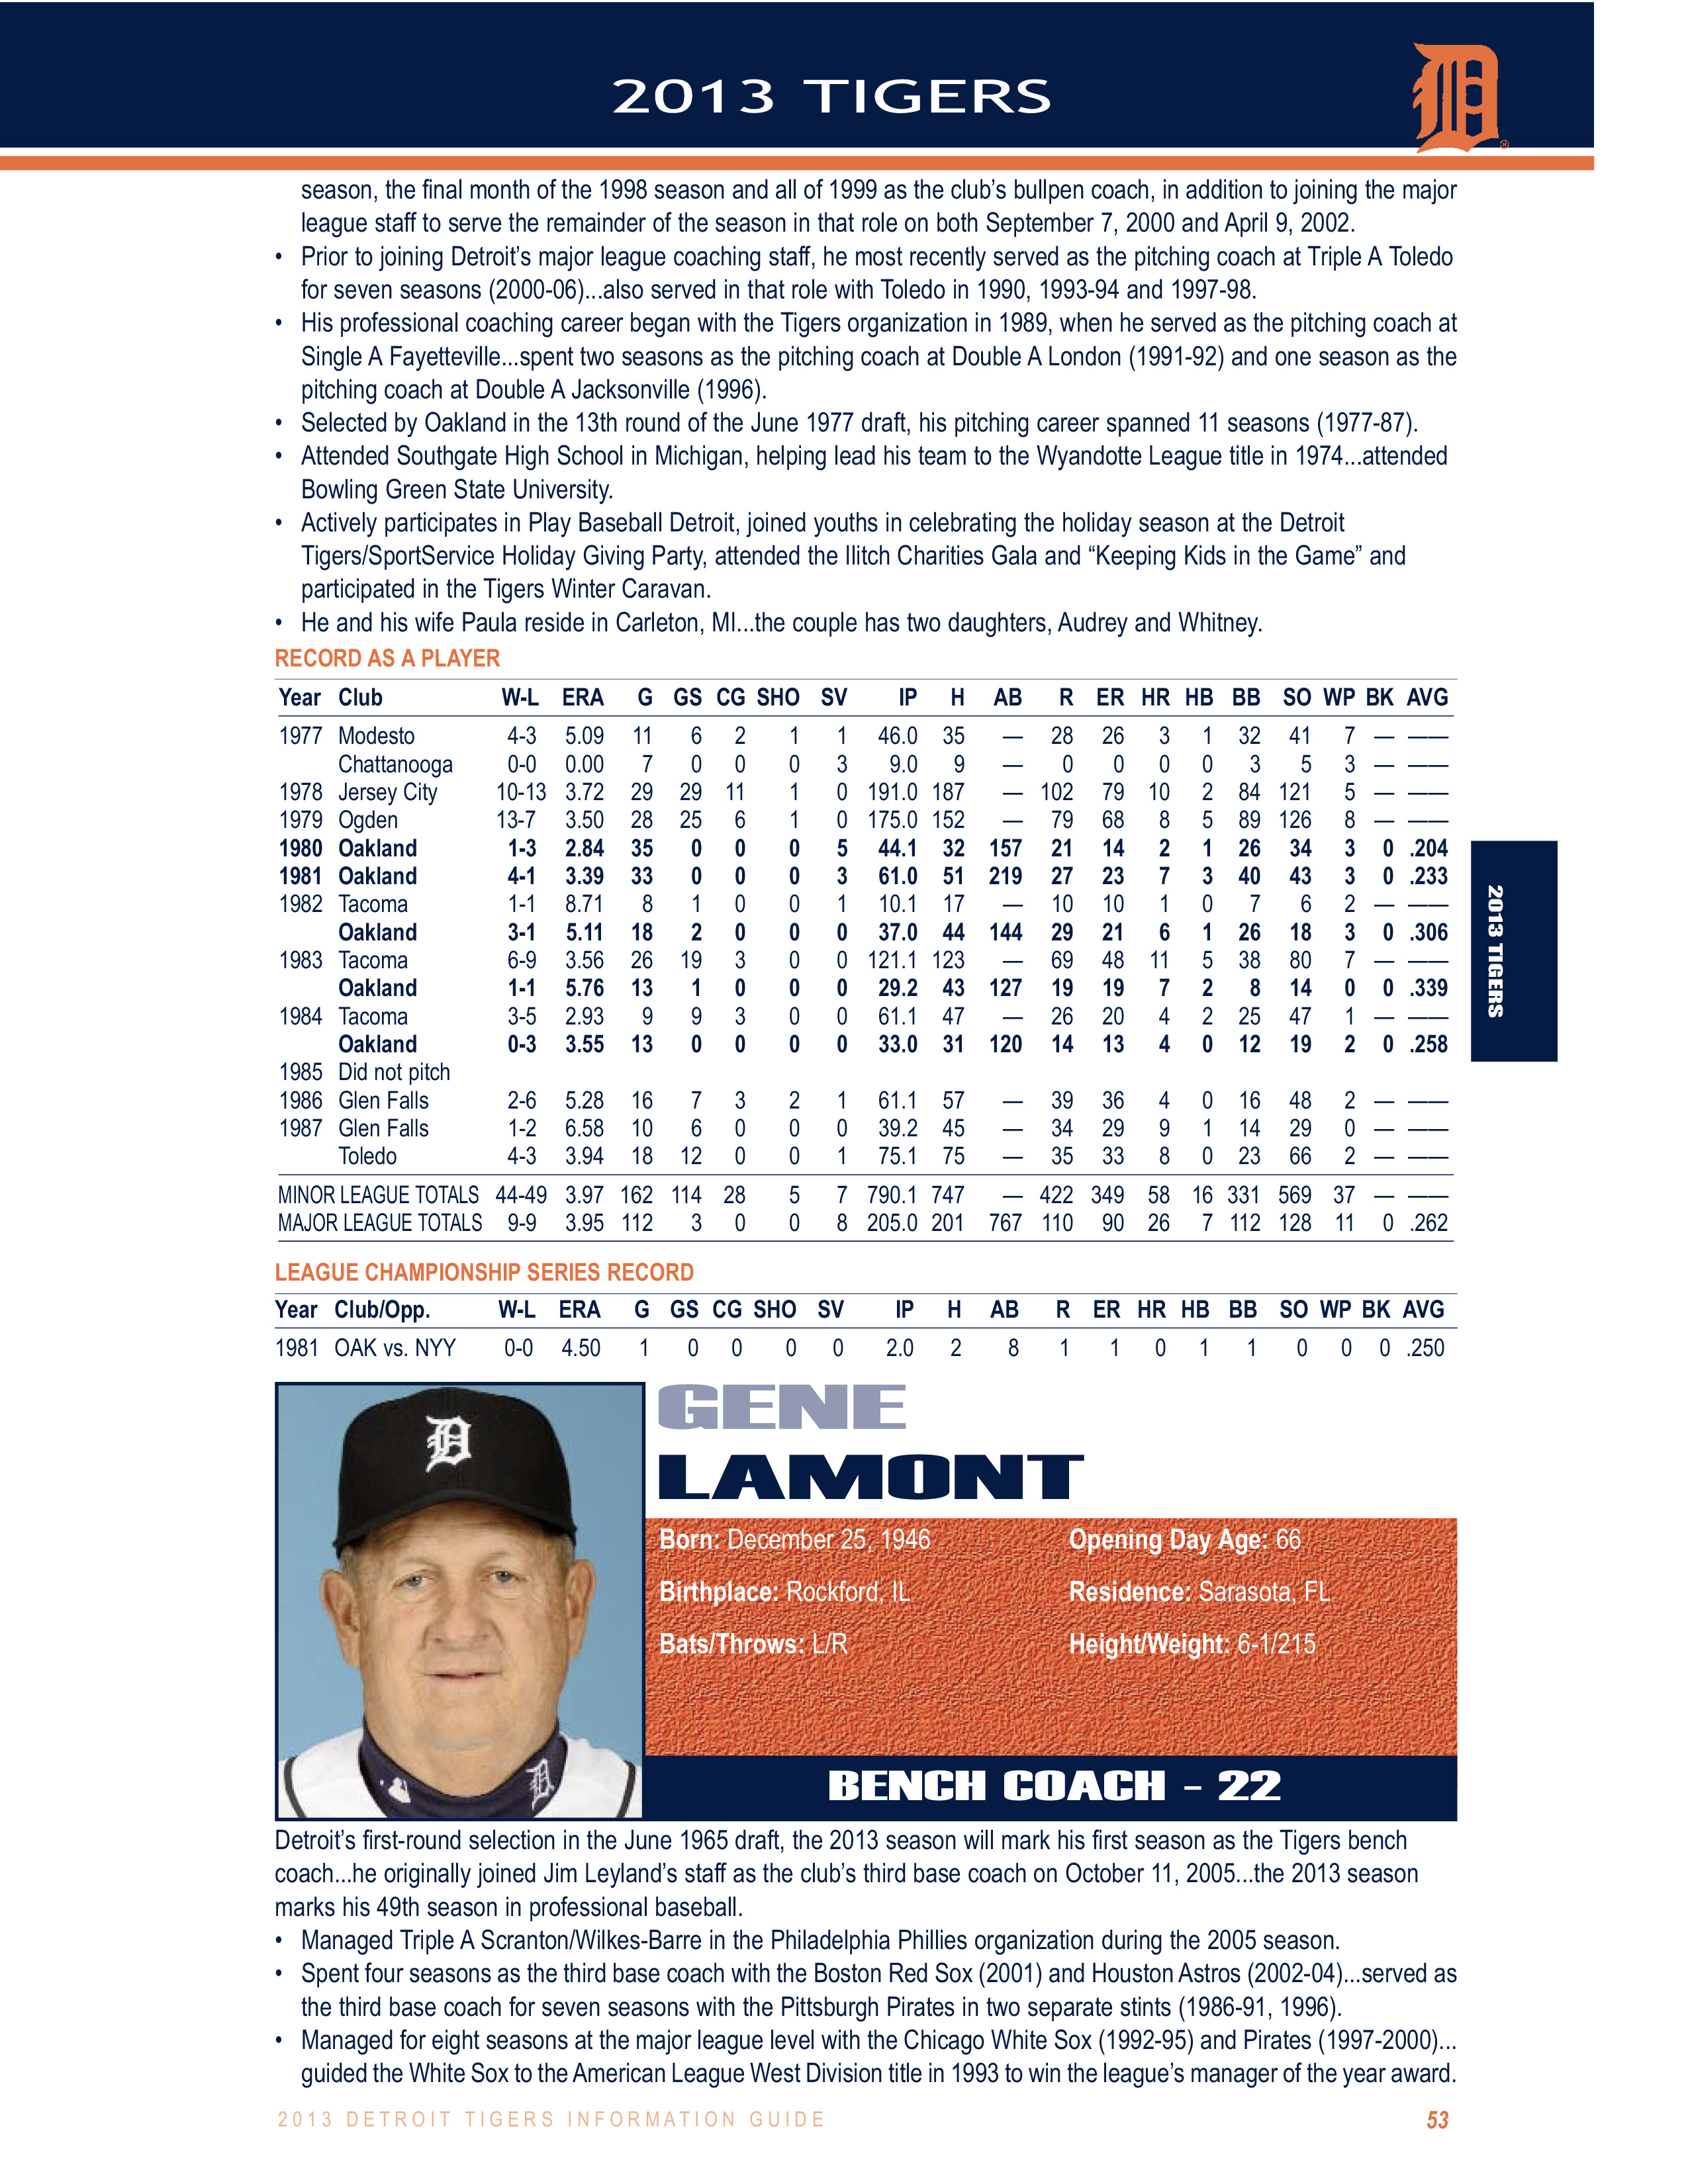caption: (644, 1379, 1092, 1517)
figure: (270, 1379, 653, 1831)
list: (262, 167, 1482, 633), (277, 1911, 1461, 2097), (653, 1516, 1332, 1684)
section: (270, 1831, 1429, 1911), (816, 1755, 1301, 1819), (259, 1239, 699, 1292), (255, 633, 520, 682)
table: (250, 690, 1456, 1228), (259, 1289, 1465, 1379)
